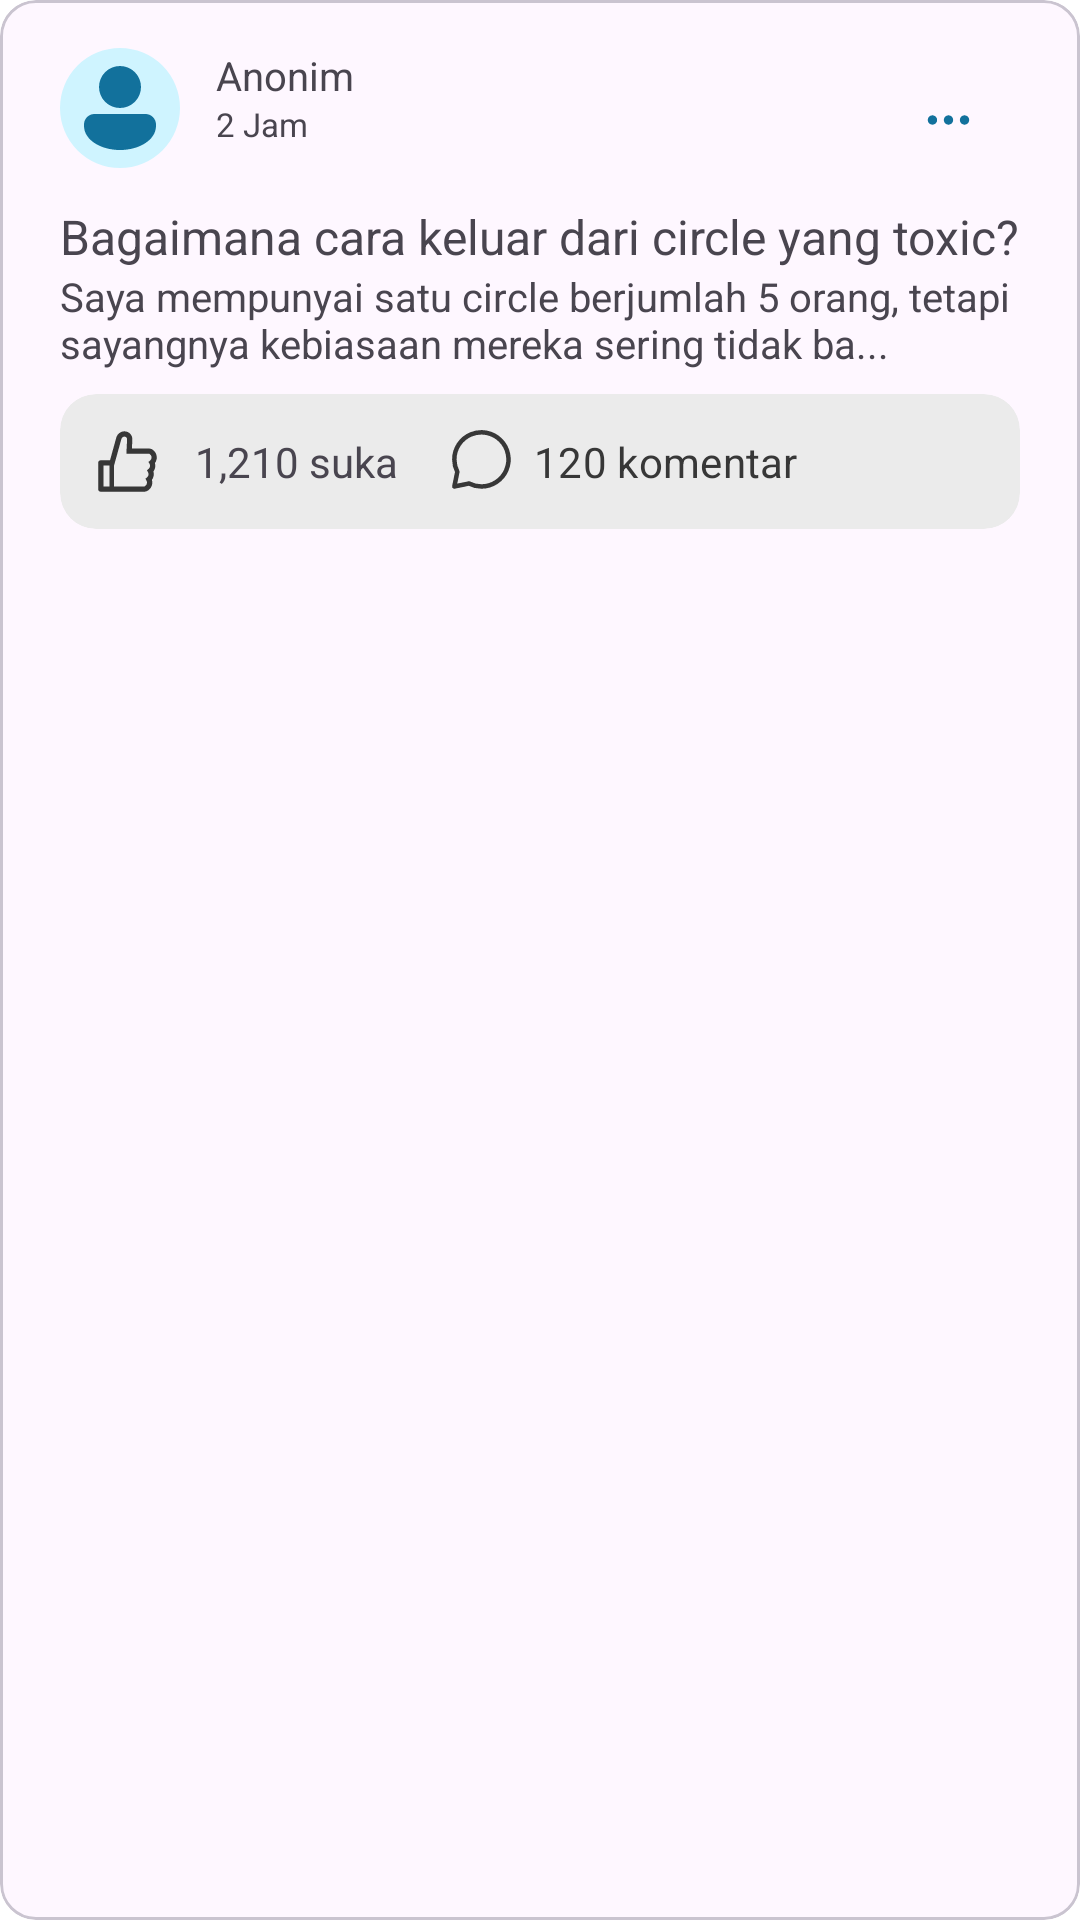

Icons on this 1080w x 1920h Android screen, each with its box as (x1, y1, x2, y2):
option: (927, 115, 970, 125)
user: (60, 48, 180, 168)
